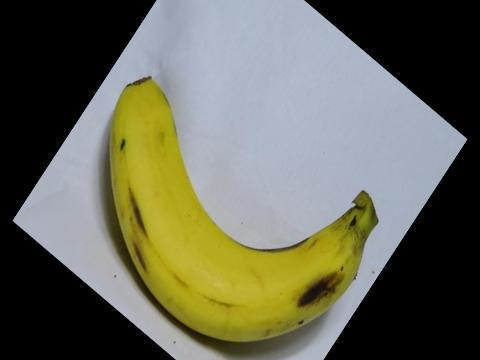freshripe: (95, 65, 391, 358)
